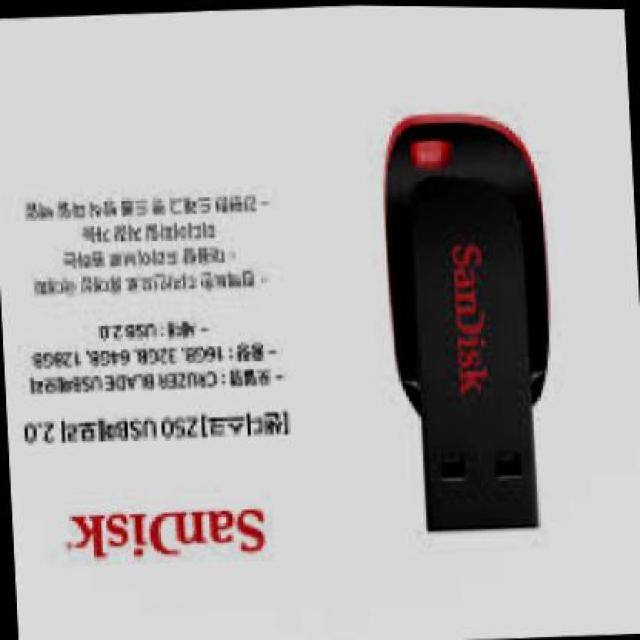Flashdisk: (376, 102, 562, 535)
